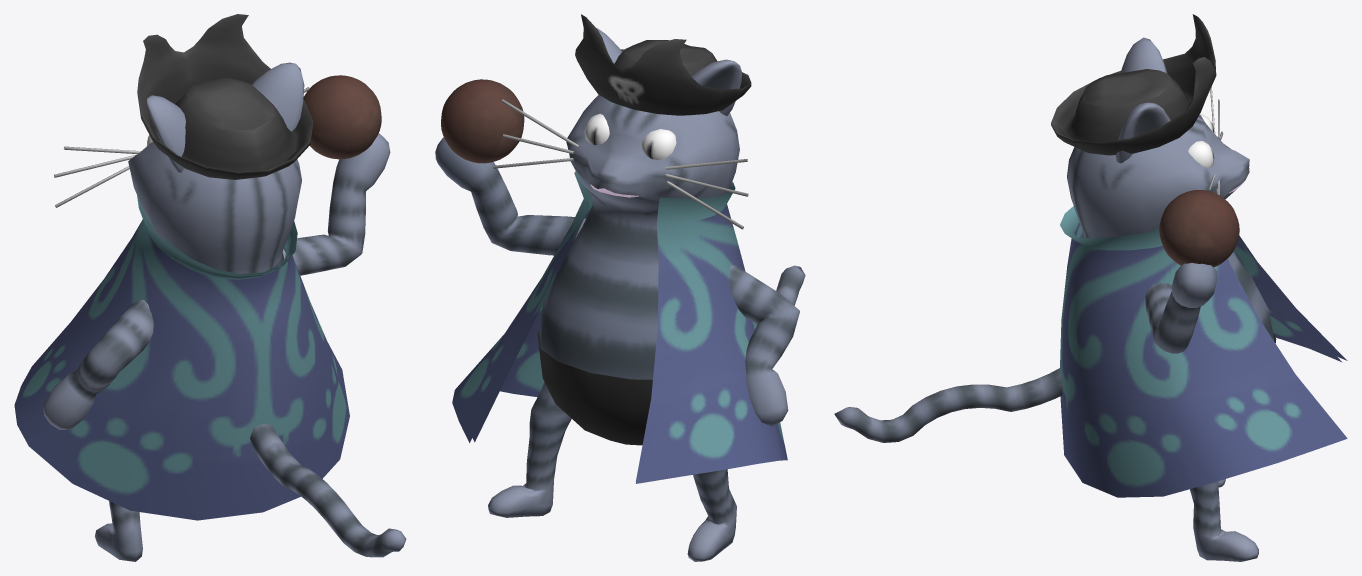
The model's file is neko_idle_b_08.fbx.
3 views of the same model, side by side, from view 1: azimuth 30°, elevation 25°; view 2: azimuth 150°, elevation 25°; view 3: azimuth 270°, elevation 25° (orthographic). The views are drawn at different scales.
Visible parts, largest first — view 1: I_b_08; view 2: I_b_08; view 3: I_b_08.
Part boxes in pixels (left/top/right/bottom): I_b_08: left=14, top=14, right=406, bottom=561; I_b_08: left=435, top=14, right=805, bottom=561; I_b_08: left=834, top=14, right=1347, bottom=561.
Size of the model in its own units: 1.4 by 1.94 by 1.86.
1 material, 1 textured.
